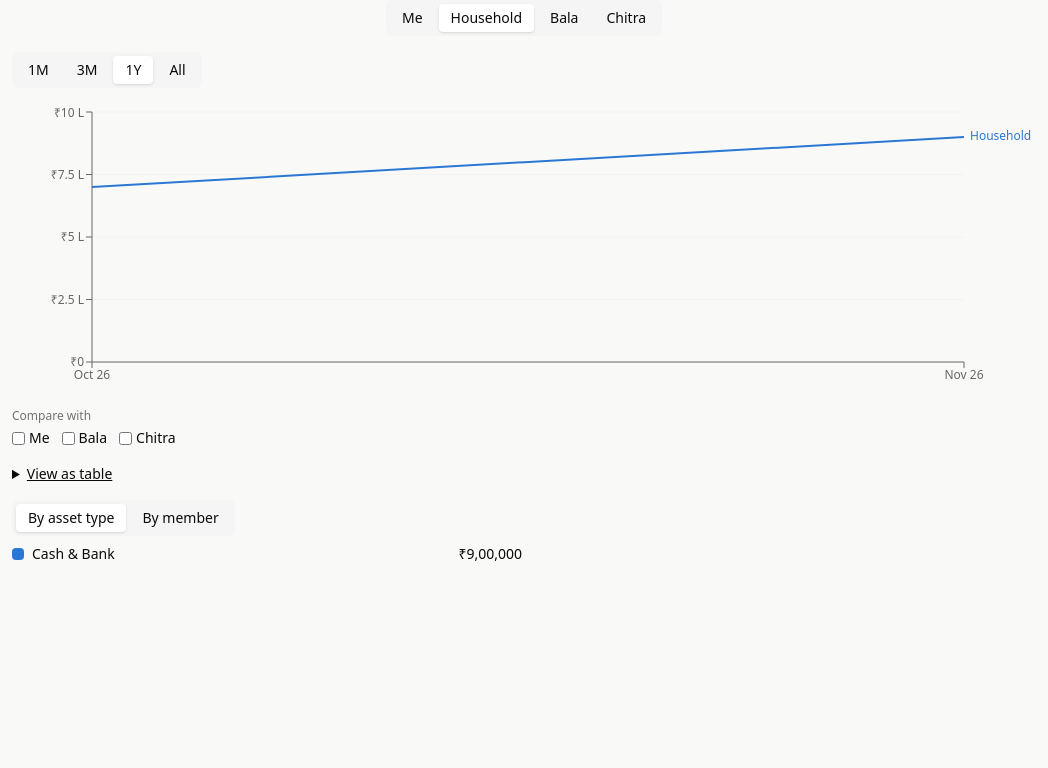
Timeline › caps compared lines at three and labels table columns
Click the checkbox labelled "Me".
click(18, 438)  # box [12,432,25,444]
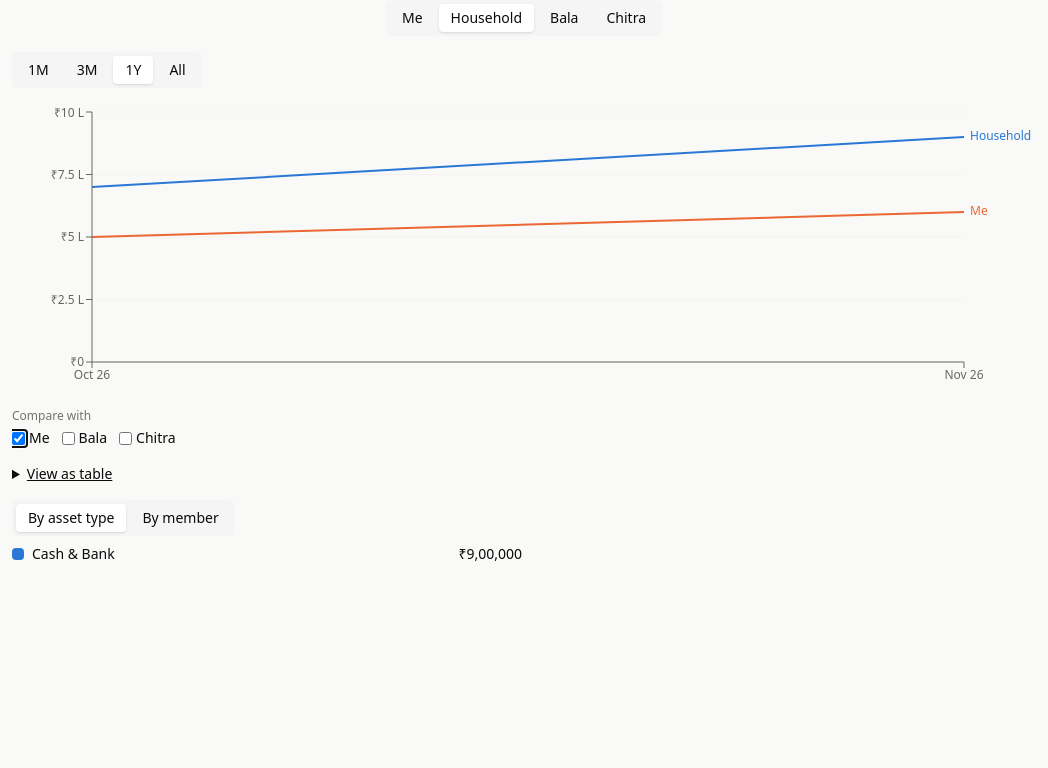
Click the checkbox labelled "Bala".
click(68, 438)  # box [62,432,75,444]
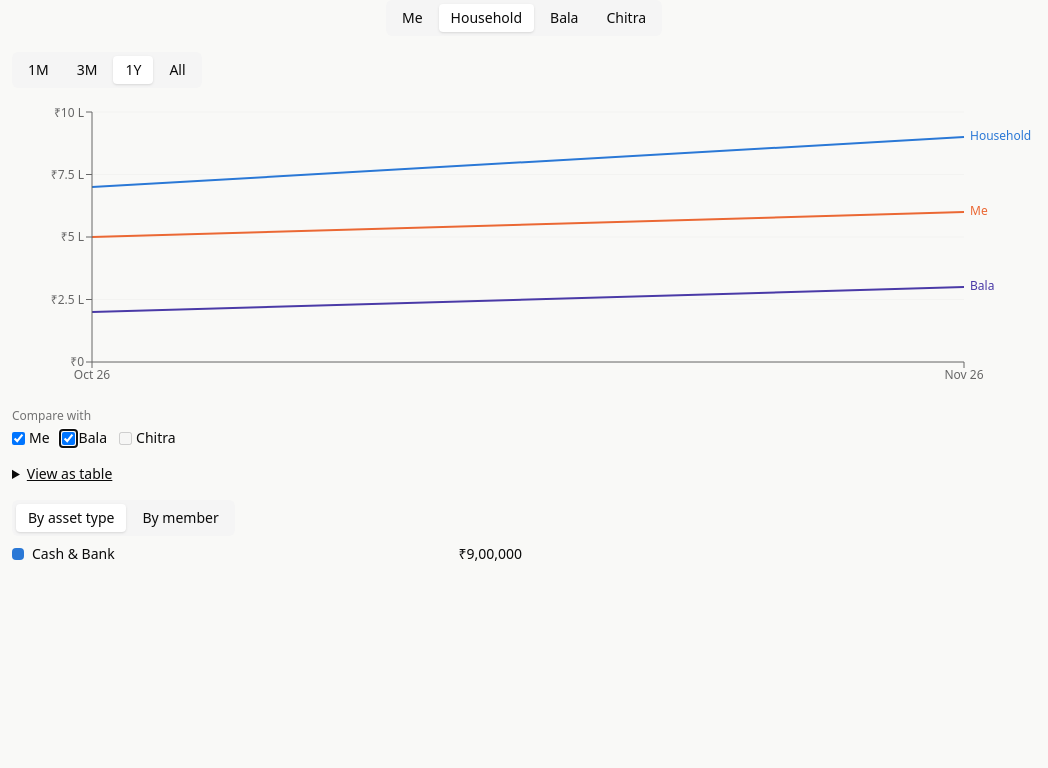
expect the checkbox labelled "Chitra" is disabled: met, box [119,432,132,444]
Click the heading "View as table".
click(70, 474)  # box [27,464,112,483]
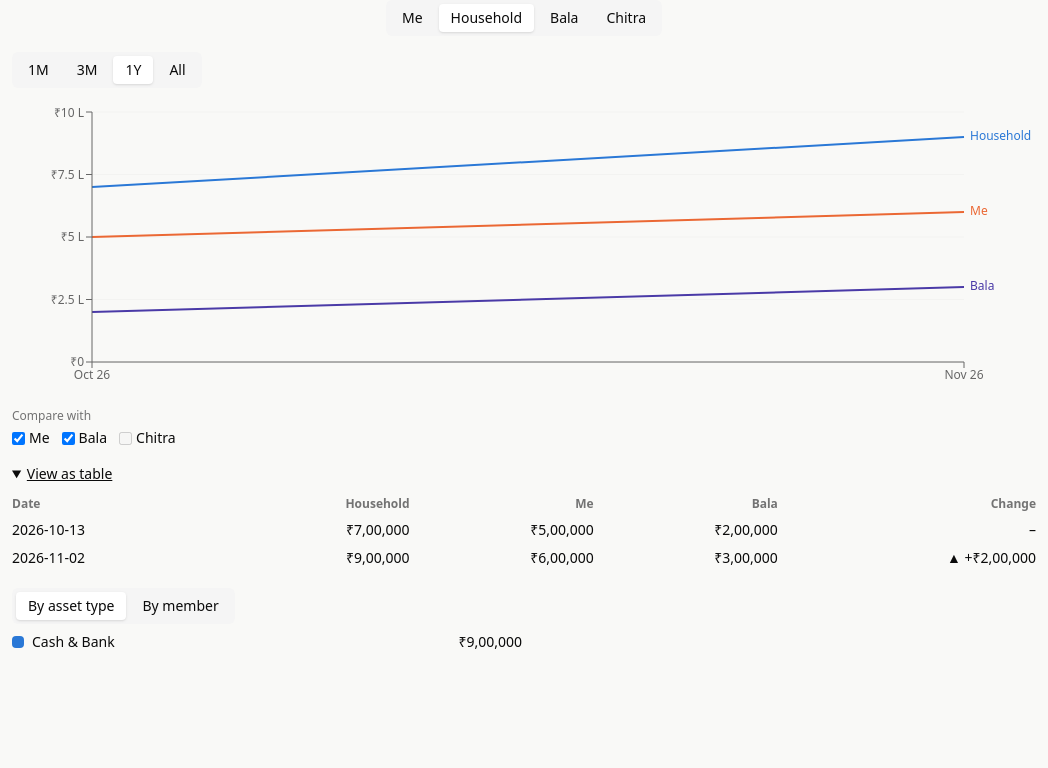
expect the column heading "Household" is shown: met, box [224,492,410,516]
expect the column heading "Me" is shown: met, box [410,492,594,516]
expect the column heading "Bala" is shown: met, box [594,492,778,516]
